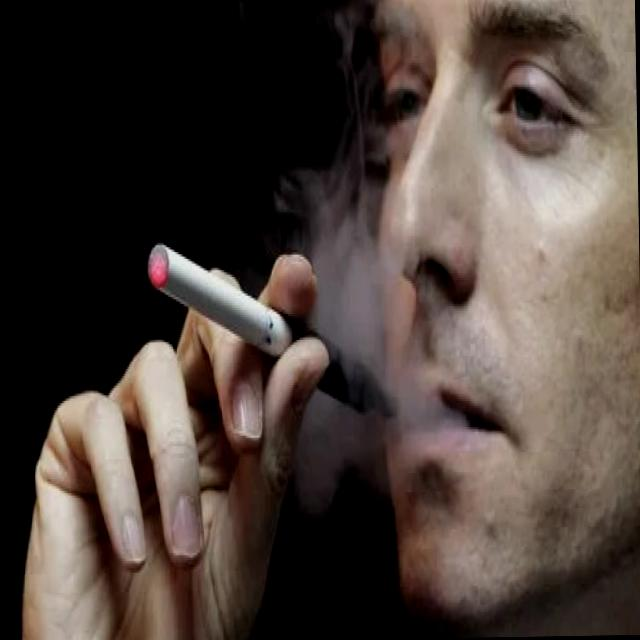cigarette: (138, 226, 399, 425)
